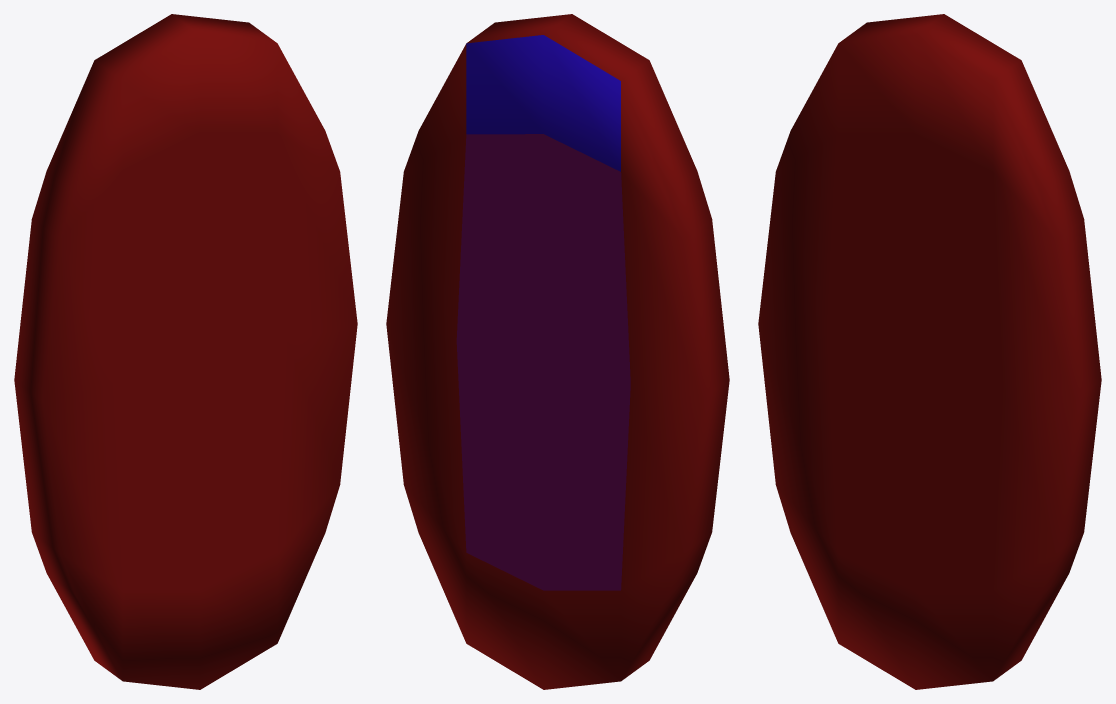
File: ShieldMedium.dae
3 views of the same model, side by side, from view 1: azimuth 30°, elevation 25°; view 2: azimuth 150°, elevation 25°; view 3: azimuth 330°, elevation 25° (orthographic).
Parts seen in each view (by area): view 1: ShieldMedium; view 2: ShieldMedium; view 3: ShieldMedium.
Part boxes in pixels (<box>): ShieldMedium: <box>14,14,357,689</box>; ShieldMedium: <box>386,14,729,689</box>; ShieldMedium: <box>758,14,1101,689</box>.
Bounding box in the file's own units: 0.3209 × 0.0503 × 0.6381.
